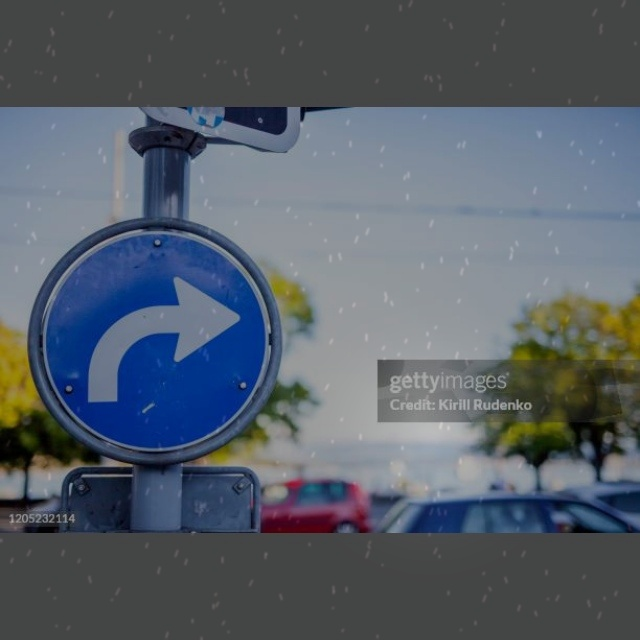Compulsory_Turn_Right_Ahead: (38, 221, 274, 458)
